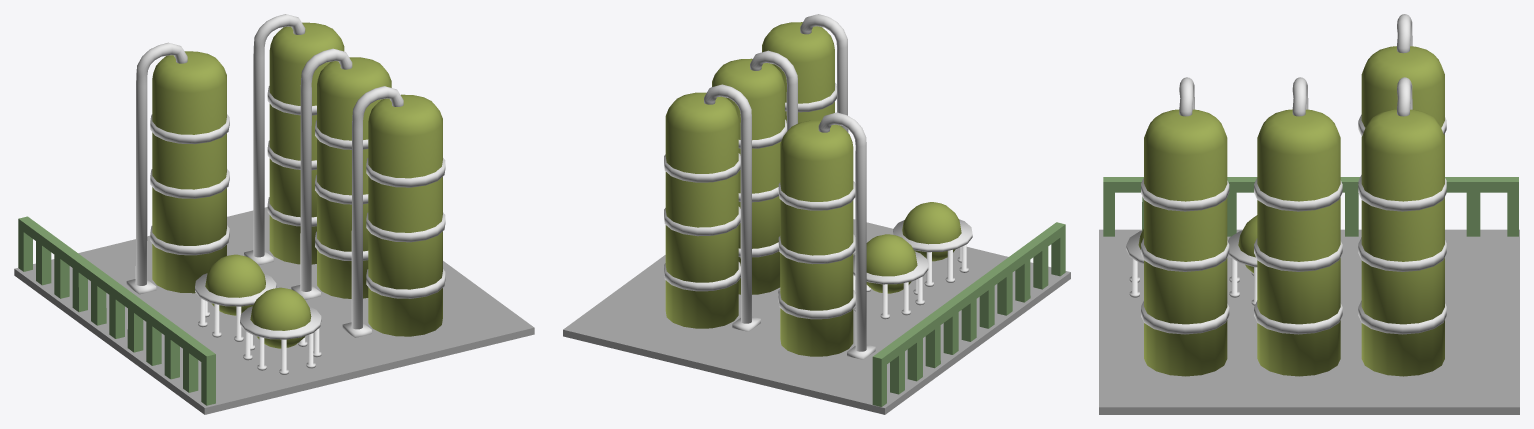
The model's file is Refinaria Sustentavel.fbx.
3 renders of one model, left to right at view 1: azimuth 30°, elevation 25°; view 2: azimuth 150°, elevation 25°; view 3: azimuth 270°, elevation 25°, orthographic. The views are drawn at different scales.
Parts seen in each view (by area): view 1: Refinaria Sustentavel; view 2: Refinaria Sustentavel; view 3: Refinaria Sustentavel.
Boxes of the visible parts, bbox=[...] form: Refinaria Sustentavel: bbox=[14, 14, 534, 414]; Refinaria Sustentavel: bbox=[563, 14, 1070, 414]; Refinaria Sustentavel: bbox=[1099, 14, 1519, 414].
Bounding box in the file's own units: 93.03 × 66.7 × 93.03.
